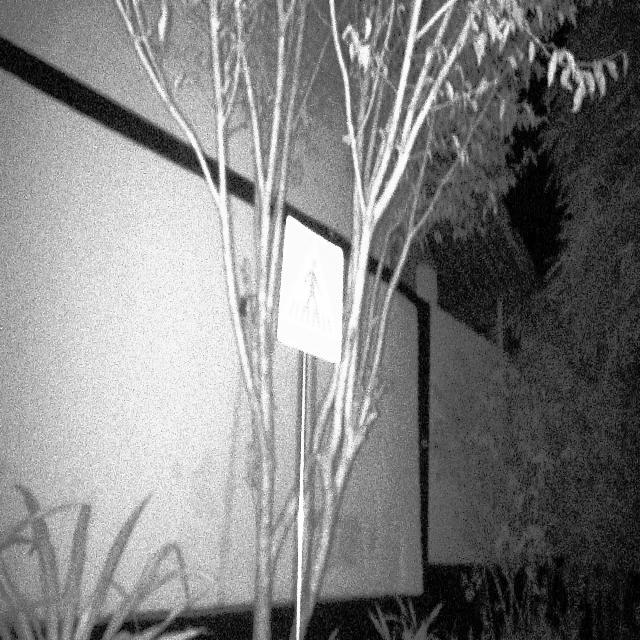Sign: (275, 213, 345, 367)
